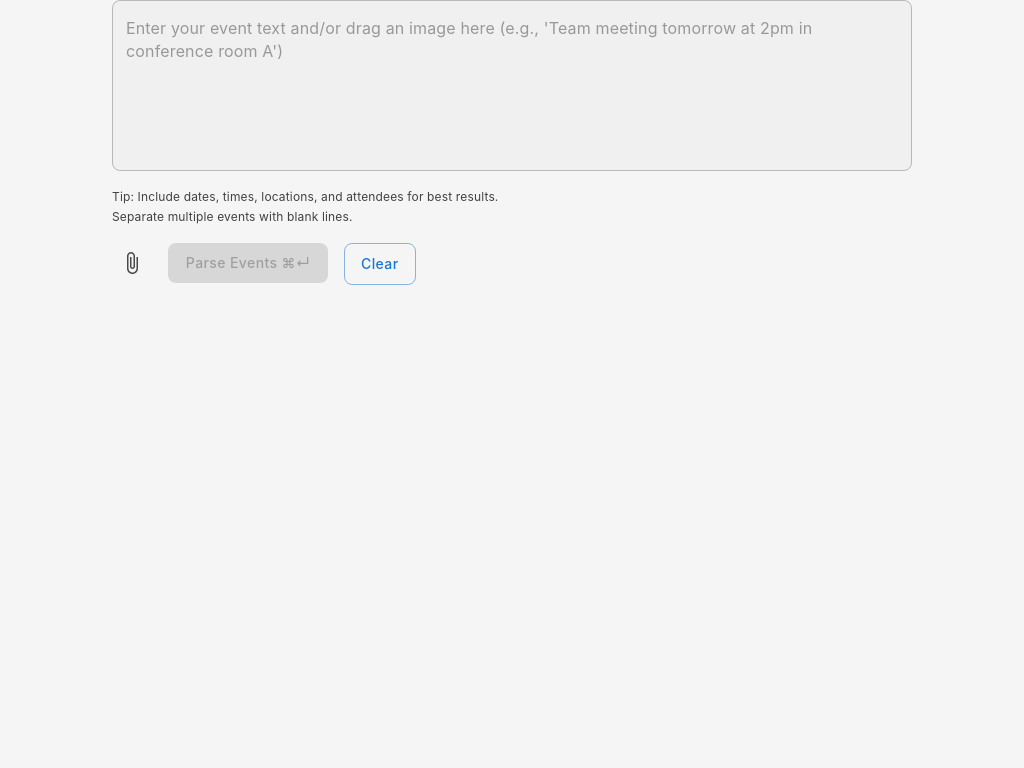
it: TextInputForm › accessibility › should announce results to screen readers
Type "Meeting tomorrow" into the text box at (512, 86), box x1=126 y1=16 x2=898 y2=154
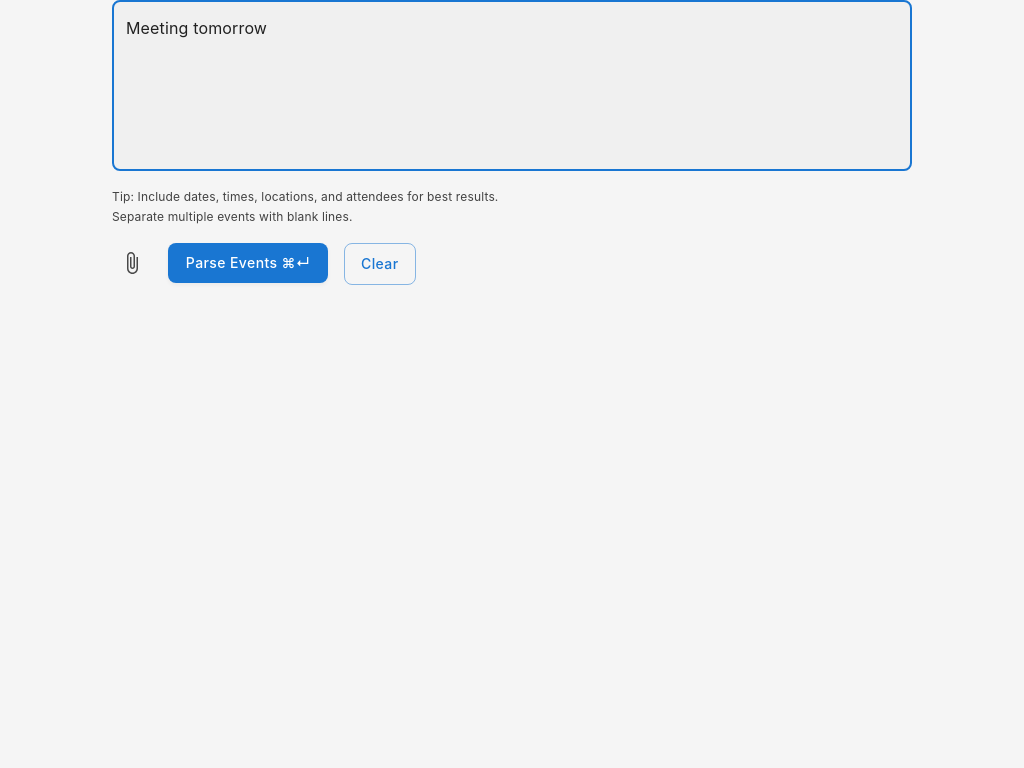
Click the button "Parse Events ⌘↵" at (248, 263), box x1=168 y1=243 x2=328 y2=283
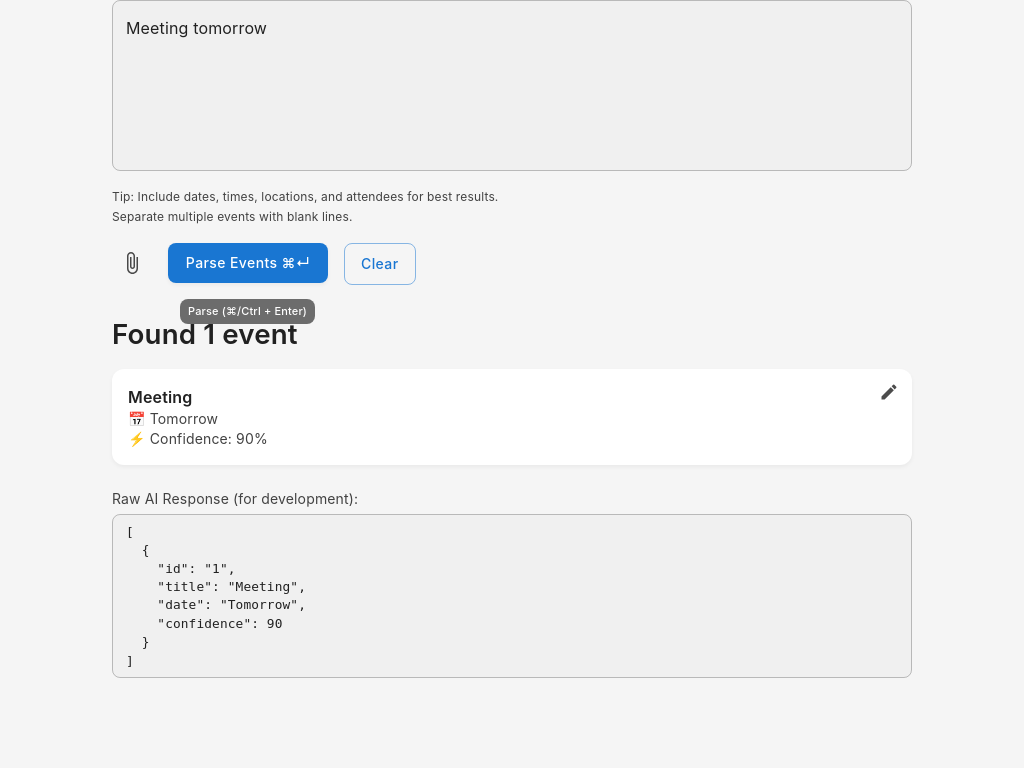
Expected: the heading "Found 1 event" is shown, x1=112 y1=317 x2=298 y2=351
